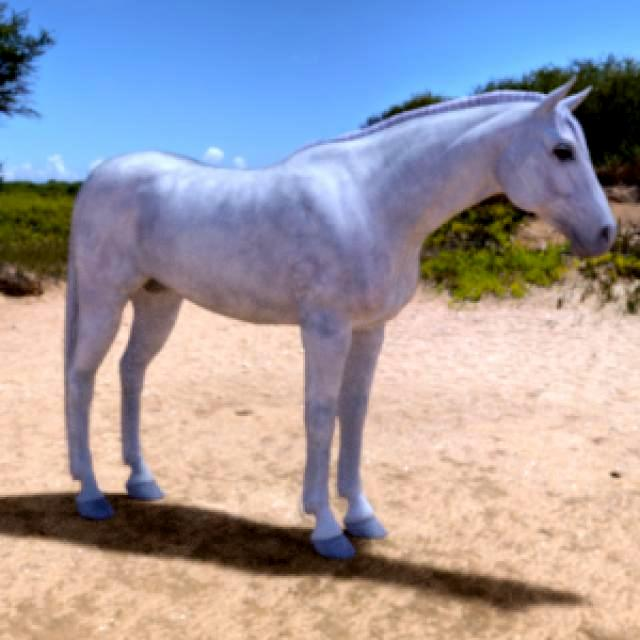horse: (65, 82, 616, 558)
